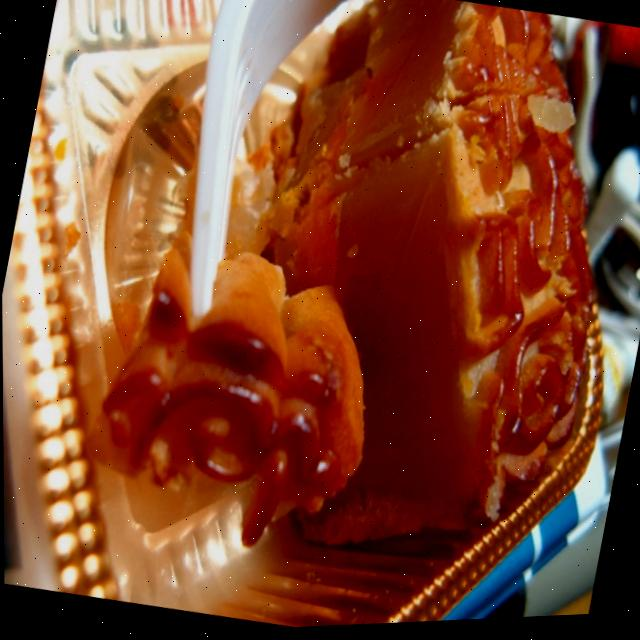蛋糕甜品: (26, 0, 640, 639)
